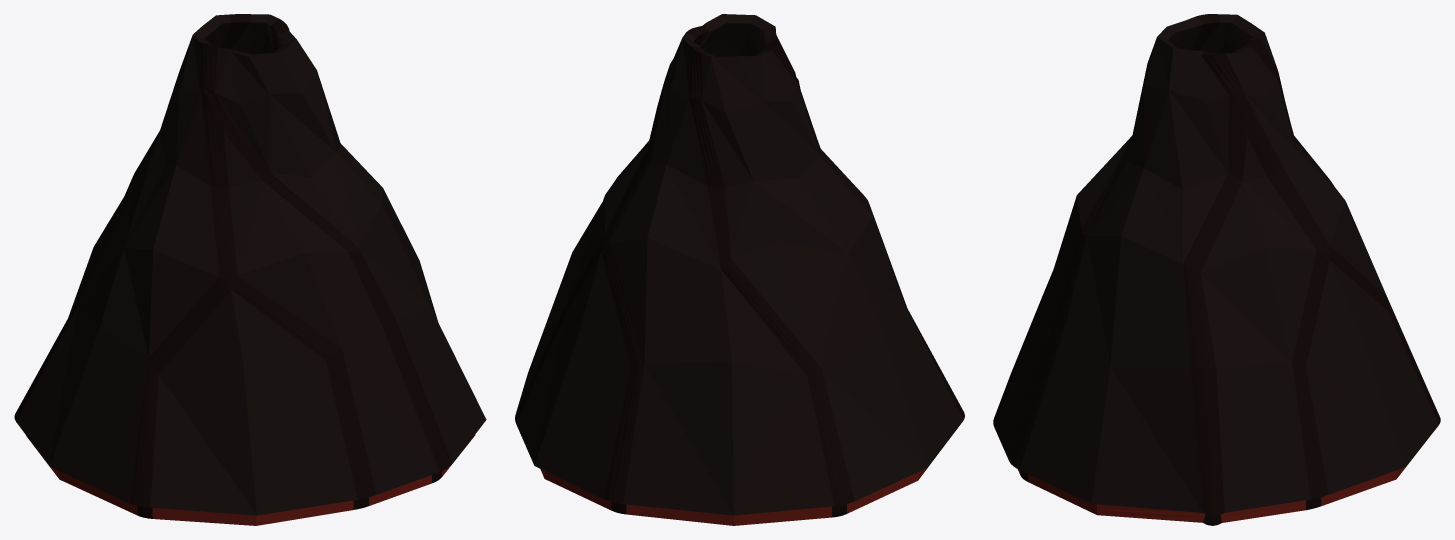
File: volcano.fbx
3 renders of one model, left to right at view 1: azimuth 30°, elevation 25°; view 2: azimuth 150°, elevation 25°; view 3: azimuth 270°, elevation 25°, orthographic.
Parts seen in each view (by area): view 1: Object001; view 2: Object001; view 3: Object001.
Boxes of the visible parts, <box> form: Object001: <box>14,14,486,525</box>; Object001: <box>515,14,964,525</box>; Object001: <box>993,14,1440,525</box>.
Size of the model in its own units: 75.82 by 72.69 by 73.89.
